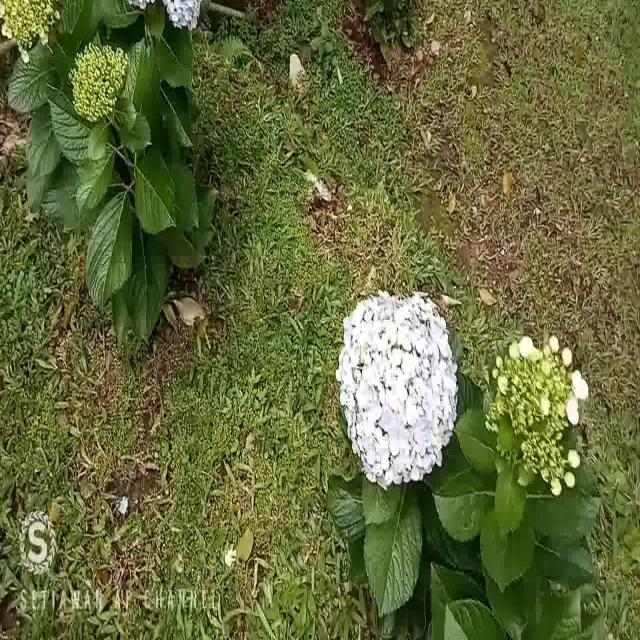Flower: (332, 274, 464, 507)
